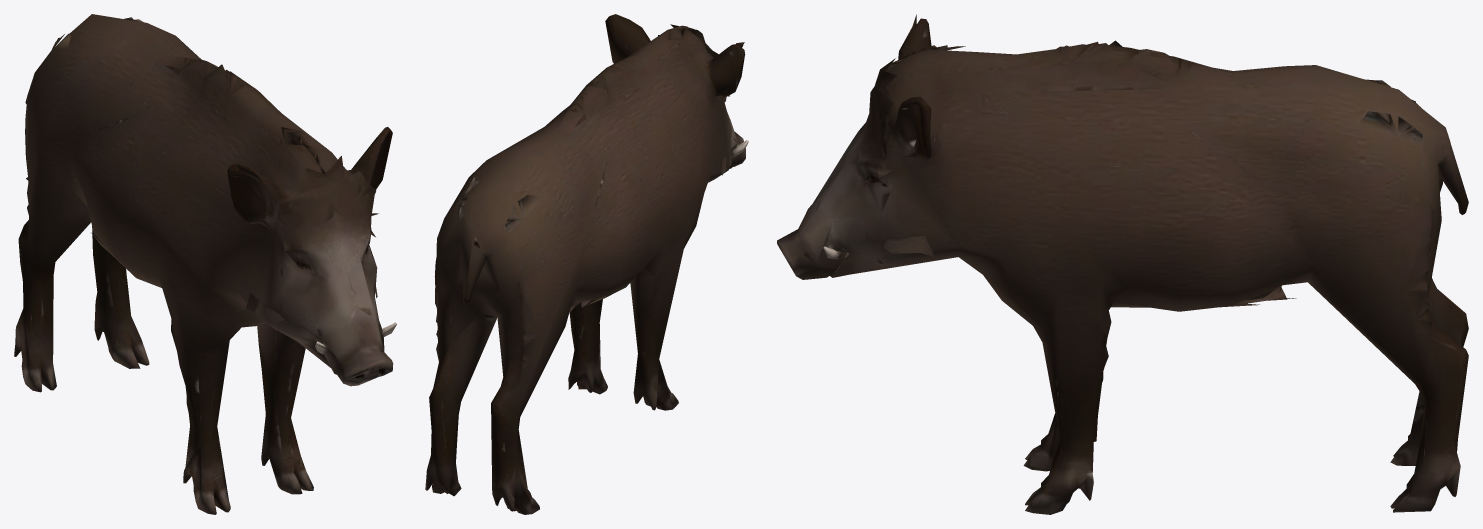
The model's file is javali_jovem_lod.glb.
The picture shows the model from 3 angles, left to right: view 1: azimuth 30°, elevation 25°; view 2: azimuth 150°, elevation 25°; view 3: azimuth 270°, elevation 25°; orthographic projection. The views are drawn at different scales.
Parts seen in each view (by area): view 1: Javali jovem; view 2: Javali jovem; view 3: Javali jovem.
Boxes of the visible parts, x1,y1,x2,y2 form: Javali jovem: (14,14,396,514); Javali jovem: (425,14,748,514); Javali jovem: (777,14,1468,514).
Bounding box in the file's own units: 0.3145 × 0.709 × 0.998.
Materials: 1 (1 with a texture image).
